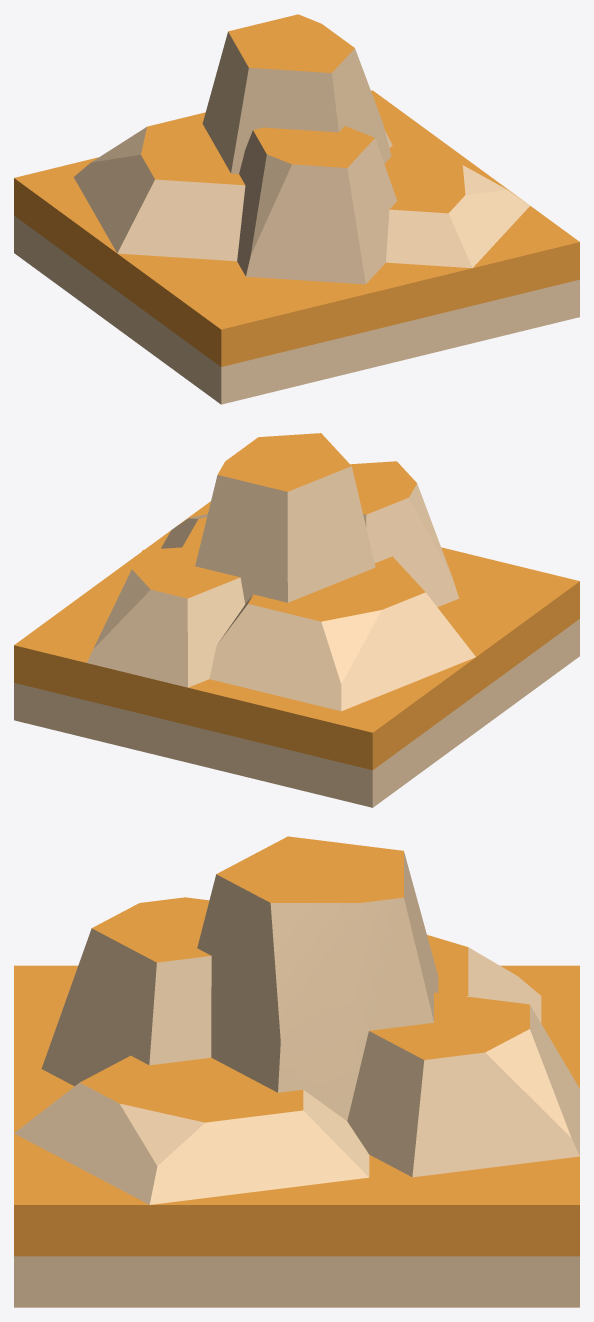
Rendered from autumn_tile_rock.fbx.
3 views of the same model, one above another, from view 1: azimuth 30°, elevation 25°; view 2: azimuth 150°, elevation 25°; view 3: azimuth 270°, elevation 25° (orthographic). The views are drawn at different scales.
Visible parts, largest first — view 1: rocks, snow_tile_rock; view 2: rocks, snow_tile_rock; view 3: rocks, snow_tile_rock.
Boxes of the visible parts, x1,y1,x2,y2 form: rocks: (73,14,529,284); snow_tile_rock: (14,90,579,404); rocks: (87,433,475,711); snow_tile_rock: (14,501,579,807); rocks: (14,836,579,1204); snow_tile_rock: (14,965,579,1307).
Size of the model in its own units: 100 by 61.86 by 100.
